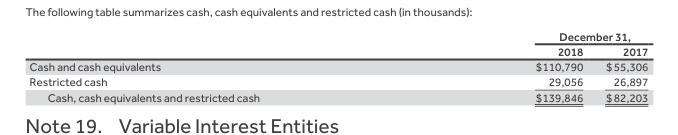table: (28, 28, 647, 103)
table column: (28, 28, 396, 103), (396, 28, 593, 103), (593, 28, 647, 103)
table column header: (28, 28, 647, 58)
table row: (28, 73, 647, 89), (28, 28, 647, 43), (28, 43, 647, 58), (28, 58, 647, 73), (28, 89, 647, 103)
table spanning cell: (396, 28, 647, 43)
